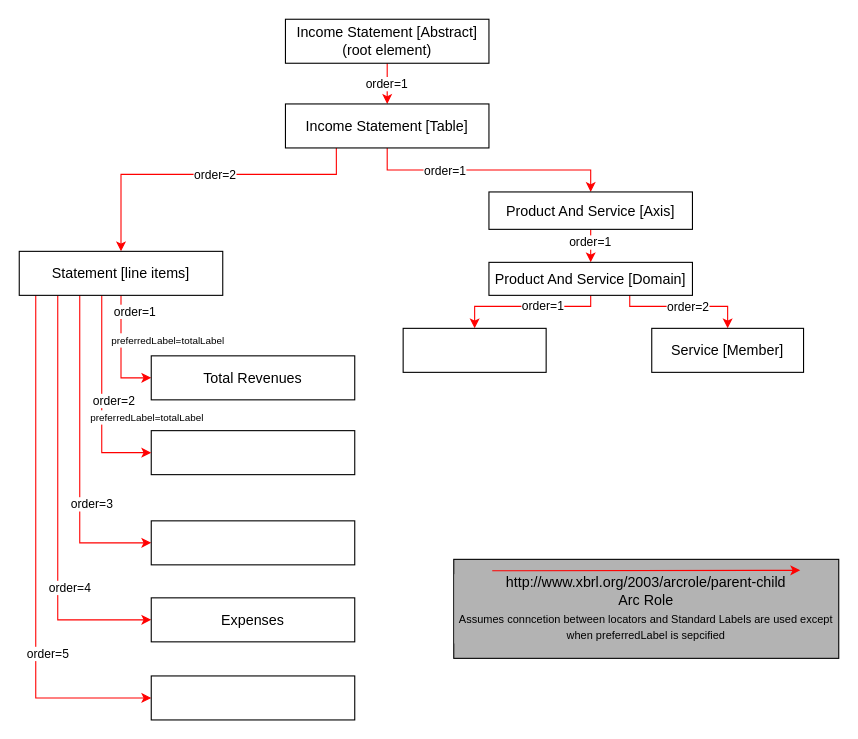
Some shapes in this 858 by 739 pixel diagram are drawn without their labels. Each missing label, with the centre of its shape:
"Gross Profit" belongs at pixel 252 542.
"Net Profit" belongs at pixel 252 697.
"Product [Member]" belongs at pixel 474 349.
"Total Costs of Revenues" belongs at pixel 252 452.
